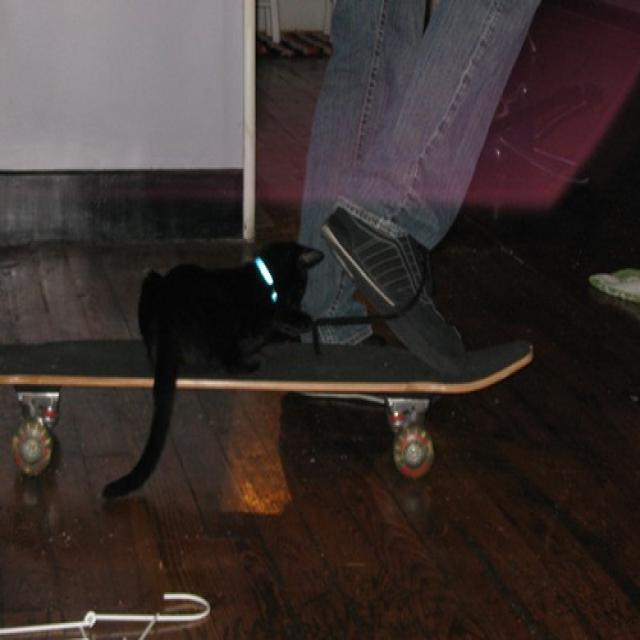Cat: (117, 244, 328, 457)
People: (287, 0, 533, 453)
